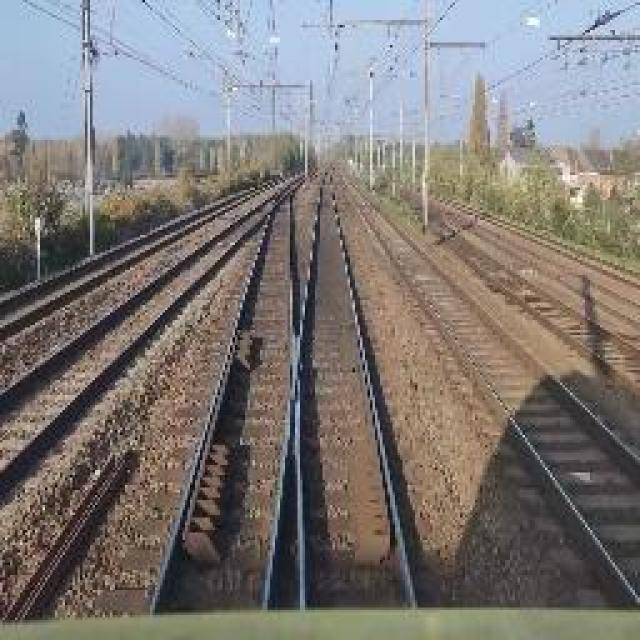rail: (1, 162, 432, 627), (328, 166, 640, 613)
